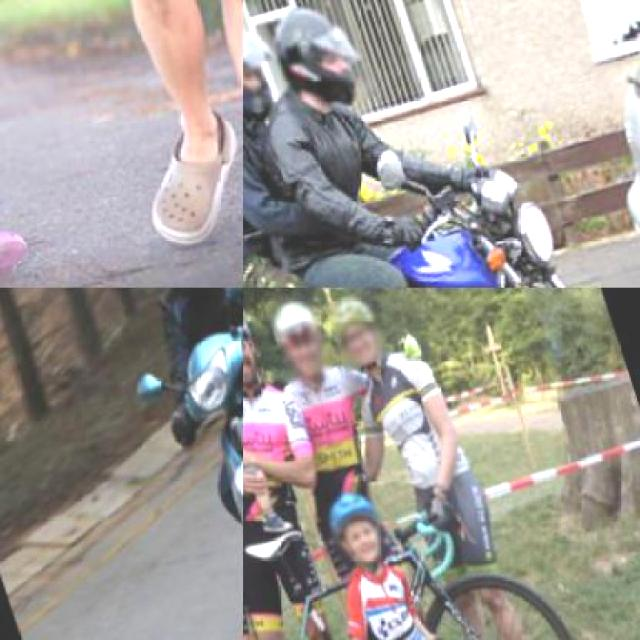With Helmet: (254, 0, 378, 126), (315, 476, 397, 573), (265, 289, 337, 391), (323, 288, 395, 370), (243, 8, 279, 128), (243, 297, 272, 394)
